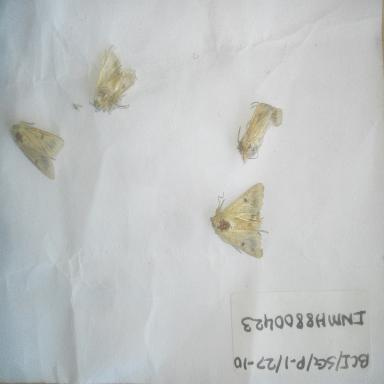abw: (207, 179, 271, 265), (85, 40, 141, 120), (6, 116, 67, 184), (233, 97, 286, 169)
